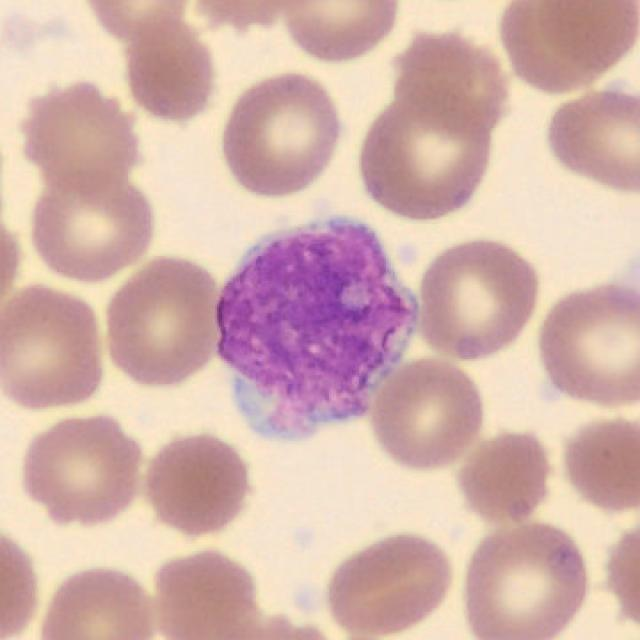Linfocito: (217, 222, 420, 441)
